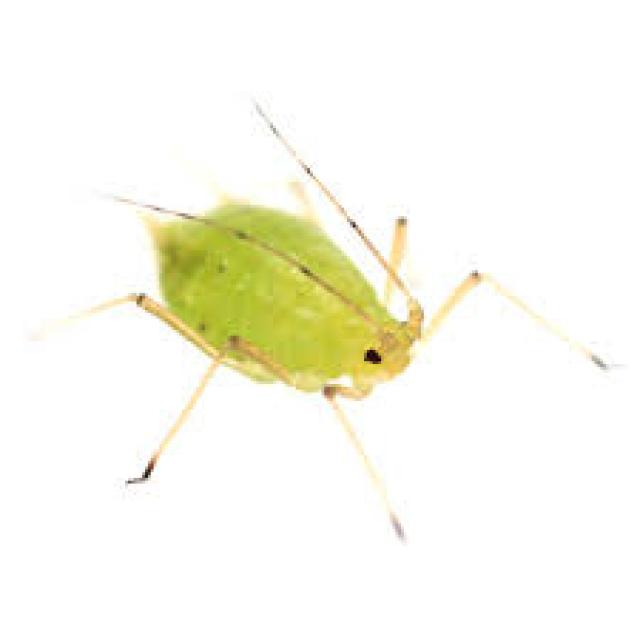Aphids: (61, 93, 552, 530)
